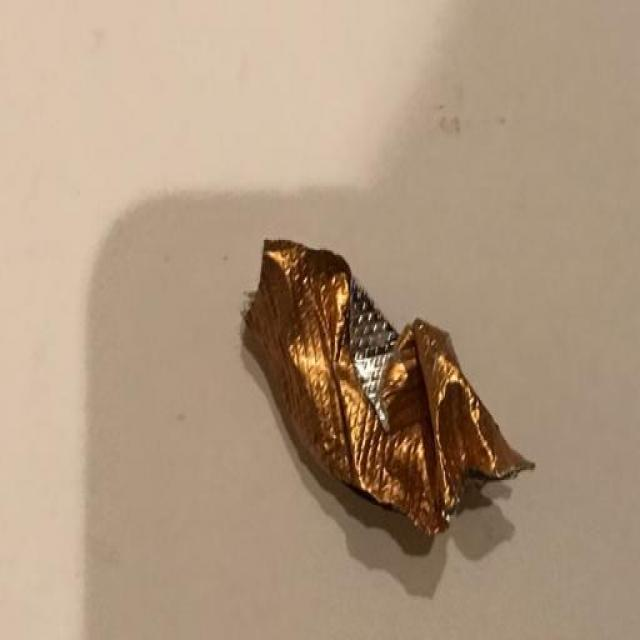others: (223, 198, 555, 574)
